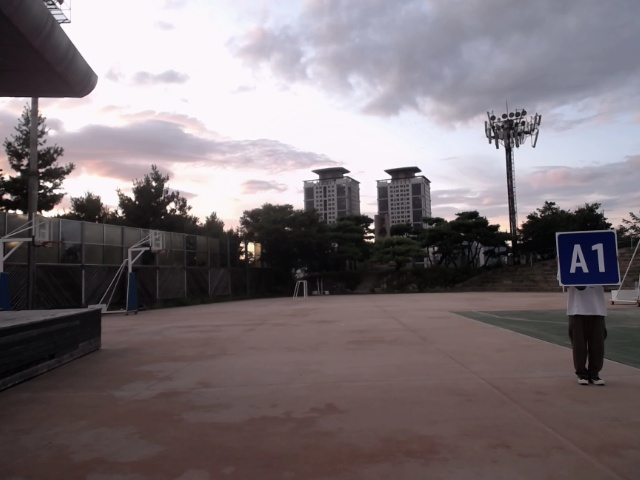delivery_a1: (557, 231, 621, 286)
